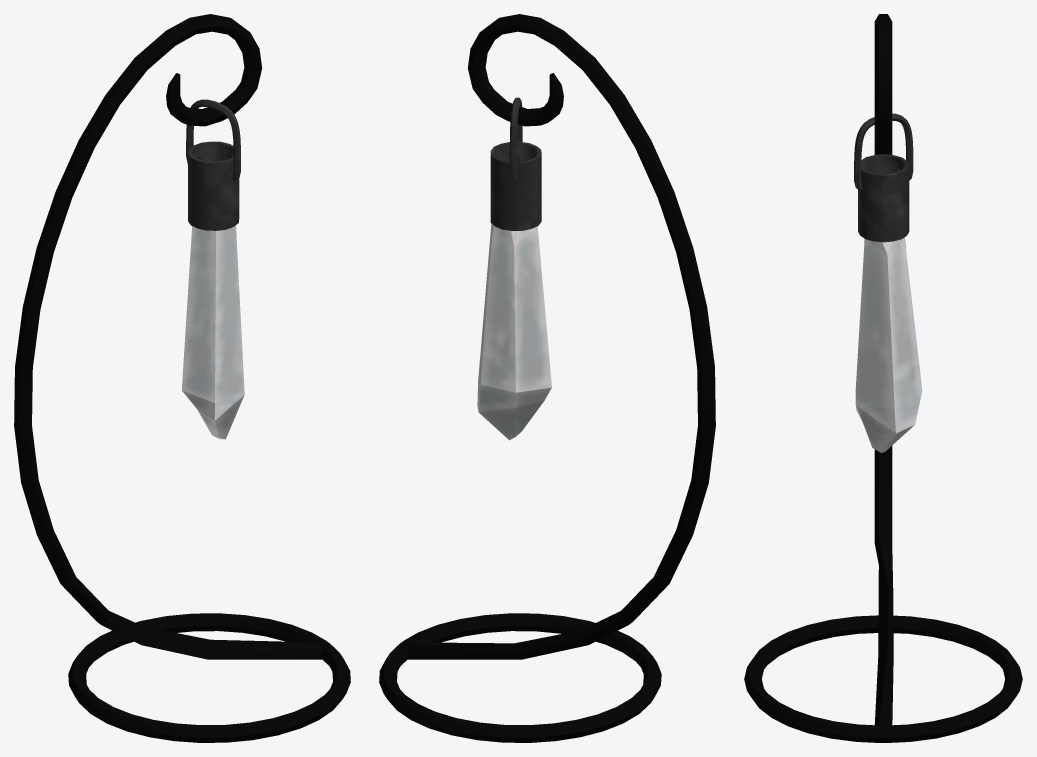
The model's file is CL_Standing_Lamp_White.fbx.
The picture shows the model from 3 angles, left to right: view 1: azimuth 30°, elevation 25°; view 2: azimuth 150°, elevation 25°; view 3: azimuth 270°, elevation 25°; orthographic projection.
Visible parts, largest first — view 1: New, Crystal04; view 2: New, Crystal04; view 3: New, Crystal04.
Part boxes in pixels (bbox=[...]): New: bbox=[14, 14, 350, 742]; Crystal04: bbox=[181, 99, 244, 439]; New: bbox=[379, 14, 715, 742]; Crystal04: bbox=[477, 97, 551, 440]; New: bbox=[744, 14, 1022, 742]; Crystal04: bbox=[854, 113, 922, 452].
Size of the model in its own units: 55.72 by 113 by 43.3.
2 materials, 2 textured.
